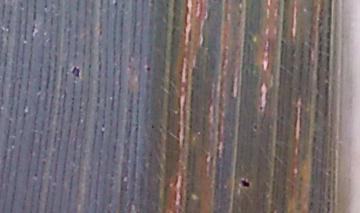tarspot: (69, 65, 82, 79), (239, 178, 250, 190), (252, 121, 258, 134), (144, 65, 152, 72), (279, 38, 286, 46), (257, 105, 265, 111), (149, 123, 155, 130)
